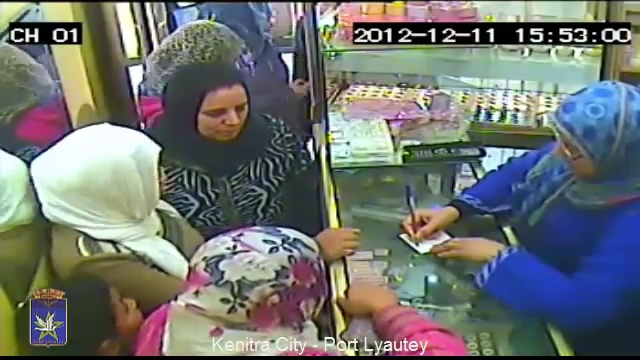face: (90, 284, 142, 341), (201, 91, 249, 139)
